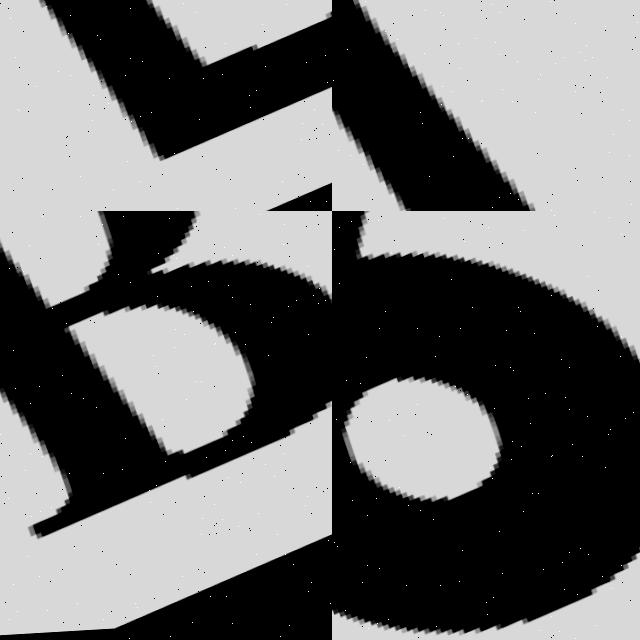I: (332, 0, 544, 211)
Q: (332, 211, 640, 640)
R: (0, 211, 332, 621)
